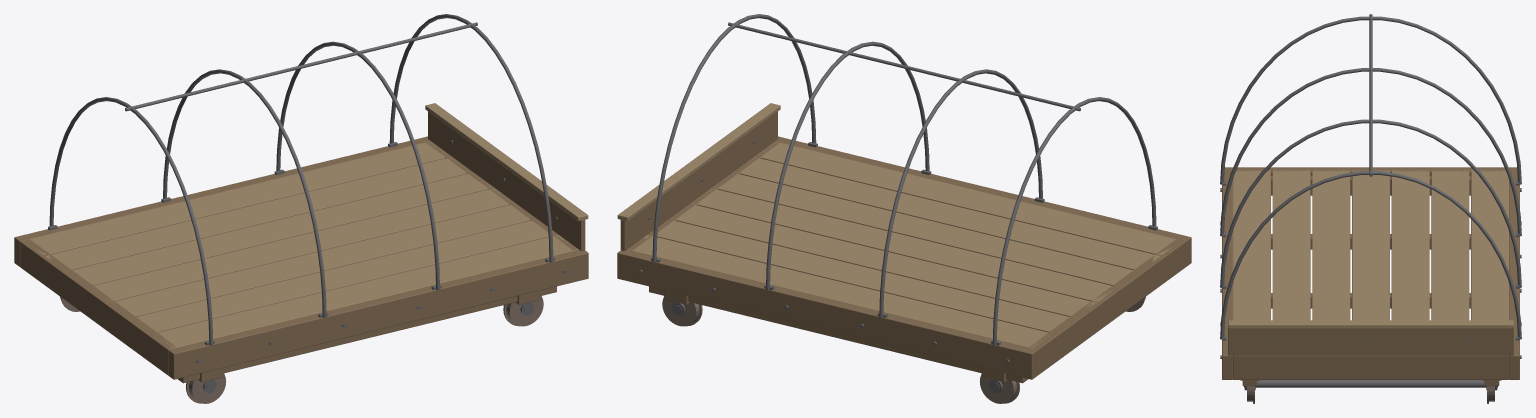
The model's file is glazing-wagon.glb.
3 renders of one model, left to right at view 1: azimuth 30°, elevation 25°; view 2: azimuth 150°, elevation 25°; view 3: azimuth 270°, elevation 25°, orthographic. The views are drawn at different scales.
Parts seen in each view (by area): view 1: SideBeam_L, Plank_06, Plank_03, Plank_05, Plank_04, Plank_02, Plank_01, Plank_00, EndBeam_B, EndUpstand, SideBeam_R, EndUpstandLedge (+9 smaller); view 2: SideBeam_R, Plank_03, Plank_00, Plank_01, Plank_04, Plank_02, Plank_05, Plank_06, EndBeam_B, EndUpstand, SideBeam_L, EndUpstandLedge (+9 smaller); view 3: EndUpstand, EndBeam_F, Plank_04, Plank_02, Plank_05, Plank_01, Plank_03, Plank_06, Plank_00, EndUpstandLedge, Hoop_0, Hoop_2 (+7 smaller).
Boxes of the visible parts, box(x1,y1,x2,y2) form: SideBeam_L: box(168, 249, 588, 379); Plank_06: box(24, 141, 448, 254); Plank_03: box(94, 188, 509, 301); Plank_05: box(45, 157, 466, 270); Plank_04: box(73, 174, 491, 285); Plank_02: box(111, 205, 530, 316); Plank_01: box(136, 220, 555, 332); Plank_00: box(156, 235, 578, 348); EndBeam_B: box(20, 239, 176, 374); EndUpstand: box(428, 111, 585, 250); SideBeam_R: box(14, 136, 430, 266); EndUpstandLedge: box(425, 103, 588, 221); SideBeam_R: box(617, 249, 1037, 379); Plank_03: box(695, 188, 1114, 301); Plank_00: box(758, 141, 1181, 254); Plank_01: box(739, 157, 1160, 270); Plank_04: box(675, 205, 1096, 316); Plank_02: box(713, 174, 1132, 285); Plank_05: box(657, 220, 1069, 332); Plank_06: box(627, 235, 1049, 348); EndBeam_B: box(1029, 239, 1185, 374); EndUpstand: box(620, 111, 777, 250); SideBeam_L: box(775, 136, 1191, 266); EndUpstandLedge: box(617, 103, 780, 221); EndUpstand: box(1228, 328, 1513, 355); EndBeam_F: box(1233, 355, 1508, 379); Plank_04: box(1391, 169, 1429, 320); Plank_02: box(1312, 168, 1350, 320); Plank_05: box(1431, 168, 1469, 320); Plank_01: box(1272, 168, 1310, 320); Plank_03: box(1352, 168, 1389, 320); Plank_06: box(1471, 169, 1508, 320); Plank_00: box(1233, 168, 1270, 320); EndUpstandLedge: box(1228, 320, 1513, 328); Hoop_0: box(1220, 16, 1521, 184); Hoop_2: box(1220, 119, 1521, 287).
Size of the model in its own units: 3.68 by 2.13 by 2.47.
